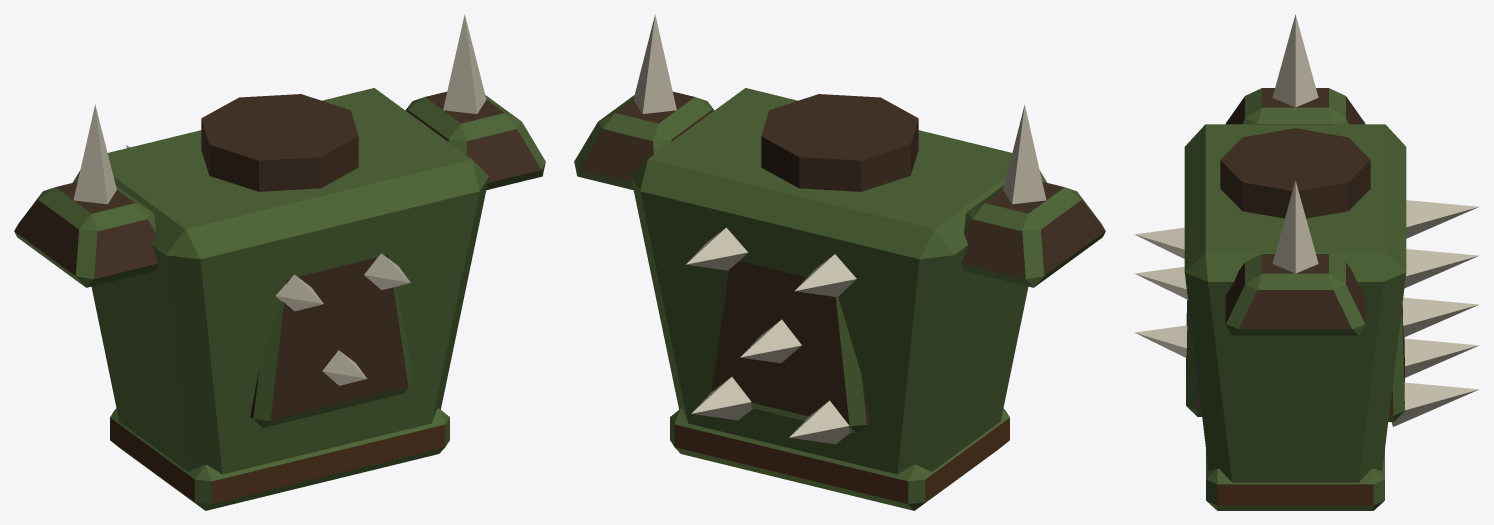
The model's file is thornback_carapace.glb.
The picture shows the model from 3 angles, left to right: view 1: azimuth 30°, elevation 25°; view 2: azimuth 150°, elevation 25°; view 3: azimuth 270°, elevation 25°; orthographic projection. The views are drawn at different scales.
Parts seen in each view (by area): view 1: thornback_carapace; view 2: thornback_carapace; view 3: thornback_carapace.
Part boxes in pixels (x1,y1,x2,y2): thornback_carapace: [14, 14, 545, 510]; thornback_carapace: [574, 14, 1105, 510]; thornback_carapace: [1134, 14, 1479, 510].
Size of the model in its own units: 0.8651 by 0.69 by 0.5979.
